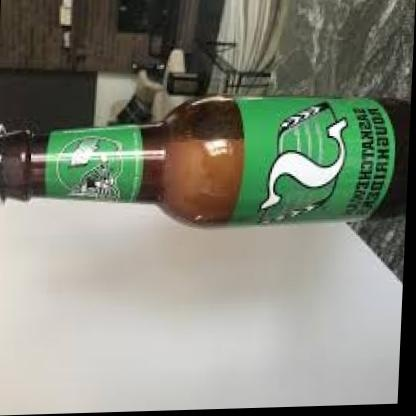trash: (0, 97, 395, 222)
